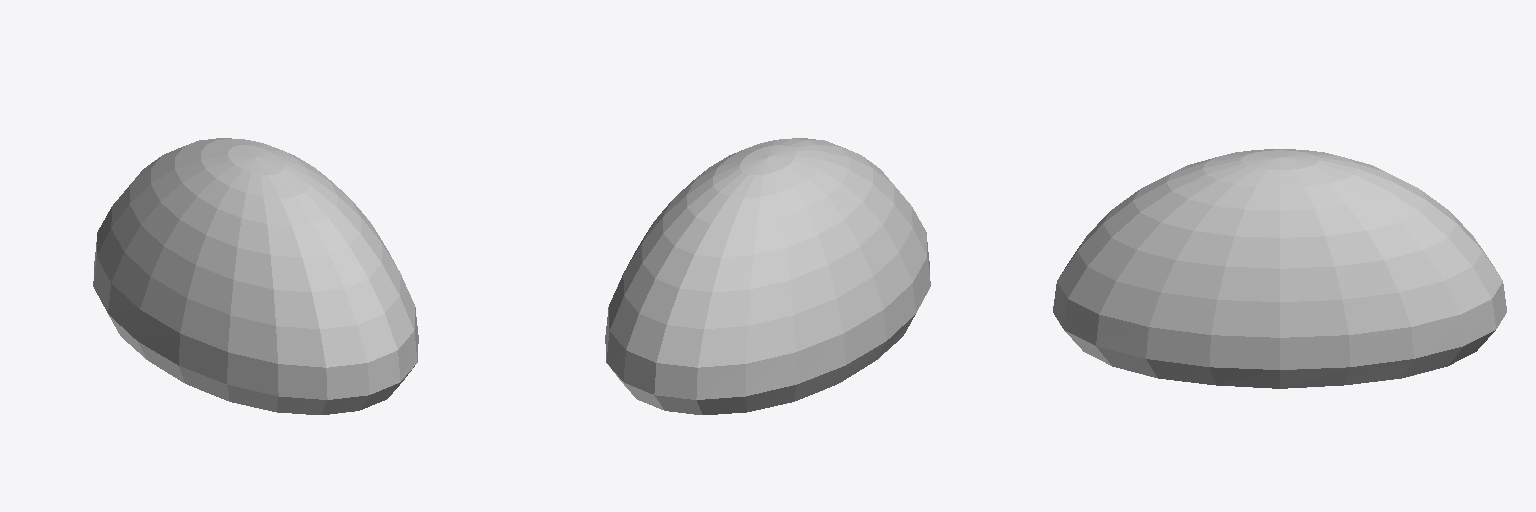
Rendered from bird_for_p5_body.obj.
The picture shows the model from 3 angles: view 1: azimuth 30°, elevation 25°; view 2: azimuth 150°, elevation 25°; view 3: azimuth 270°, elevation 25°; orthographic projection.
Bounding box in the file's own units: 2.11 × 1.67 × 3.49.